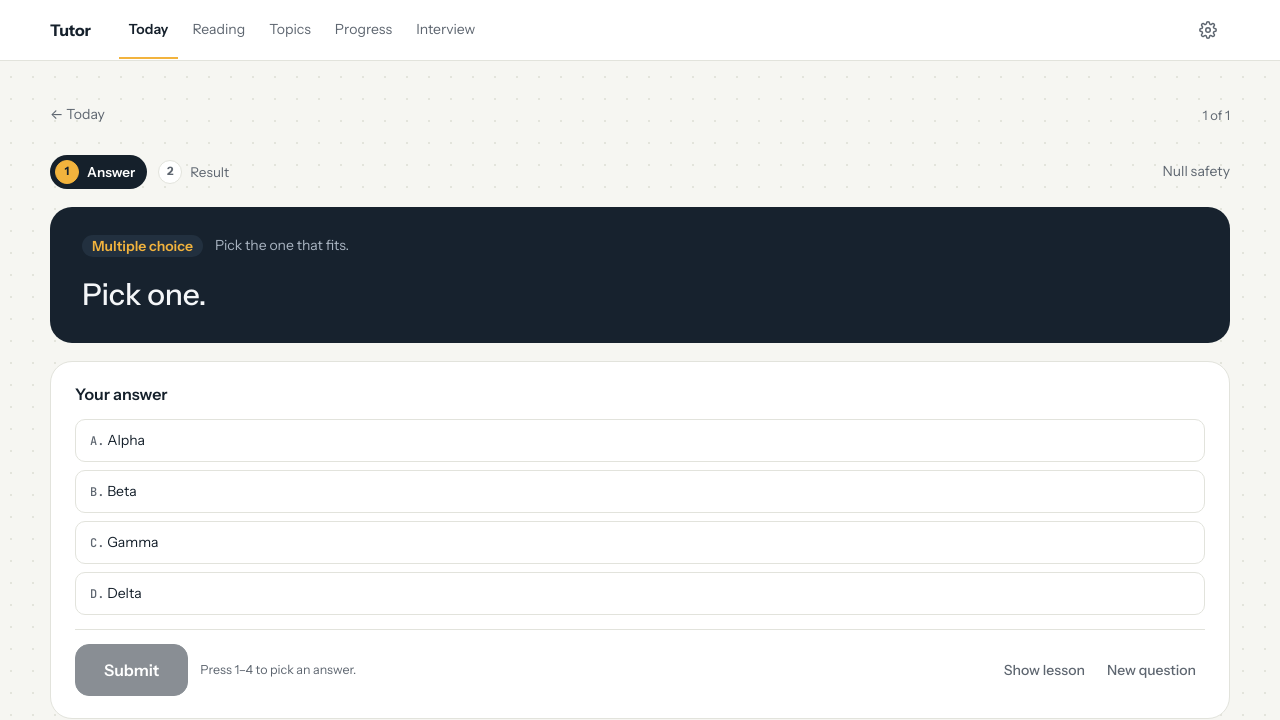
Test case: shows lesson after a wrong review answer
The width and height of the screenshot is (1280, 720).
Click the button "A. Alpha".
click(126, 440)  # box [75,419,1205,462]
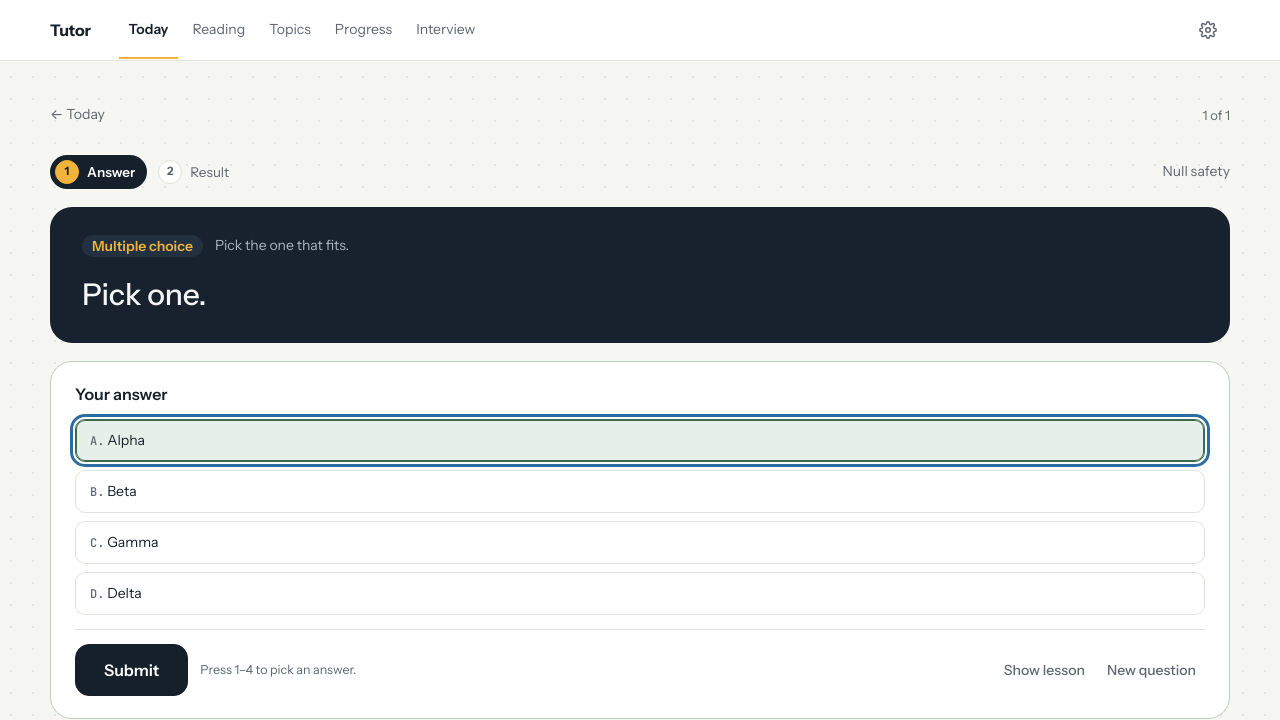
Click the button "Submit".
click(132, 670)  # box [75,644,188,696]
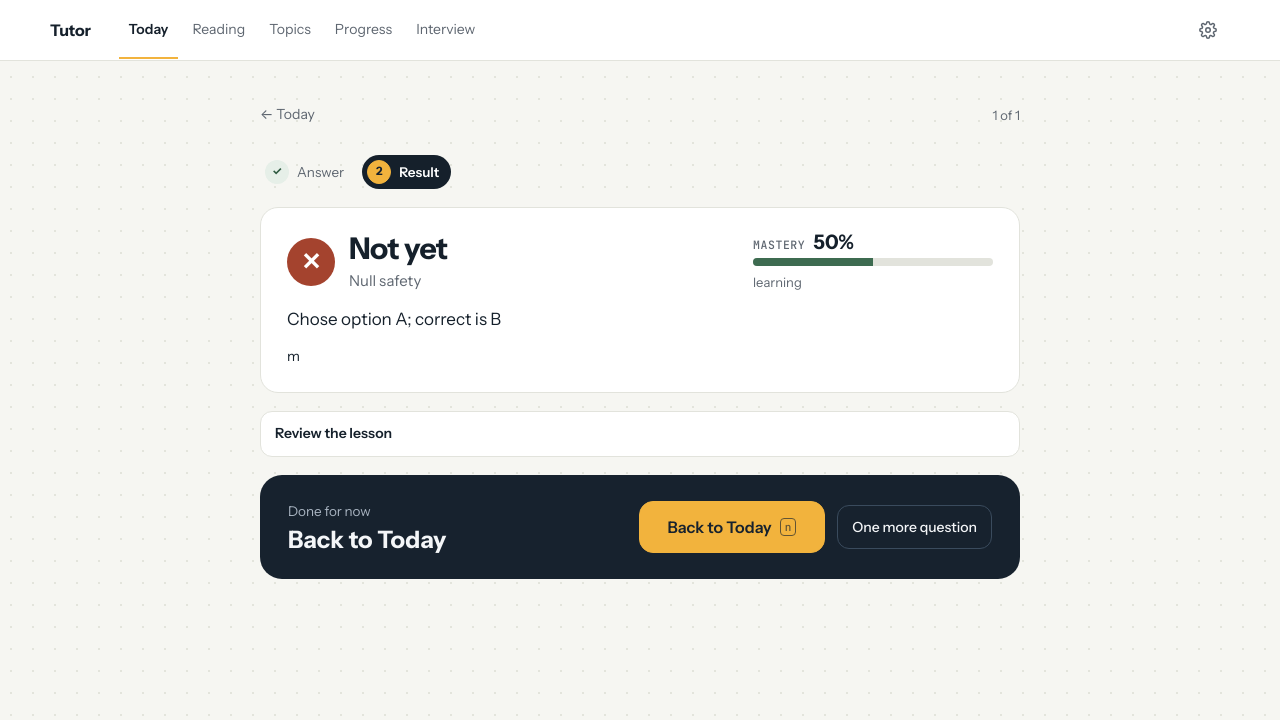
Now the heading "Not yet" is shown, box [349,230,448,267]
